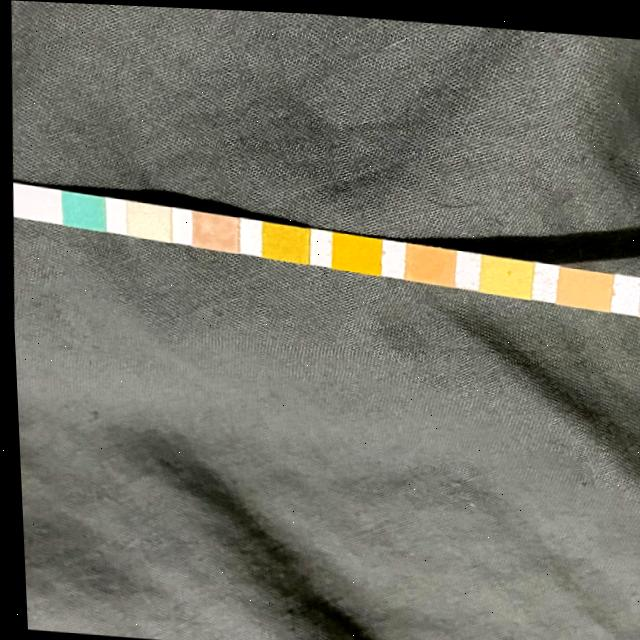Bilirubin: (128, 202, 167, 237)
Blood: (336, 232, 376, 268)
Glucose: (62, 194, 102, 227)
Ketone: (195, 213, 231, 247)
Nitrite: (640, 277, 640, 310)
Protein: (480, 253, 528, 291)
SpGravity: (264, 223, 300, 257)
Urobilinogen: (557, 265, 605, 303)
pH: (404, 243, 450, 278)
